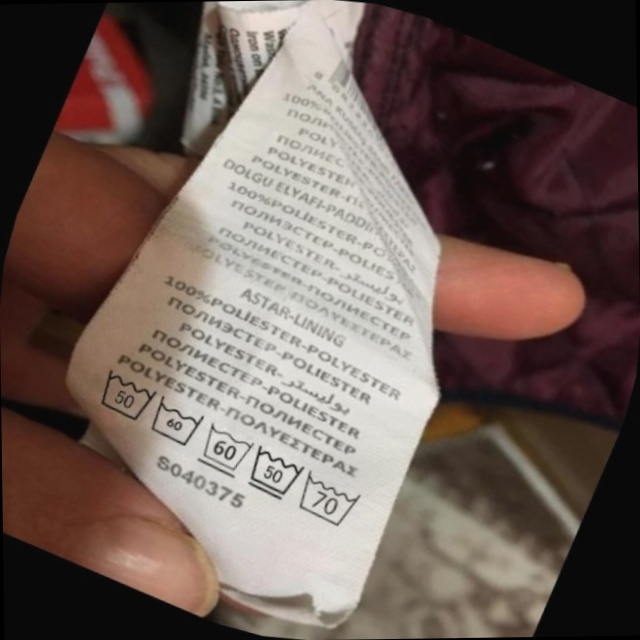50C: (83, 356, 169, 434), (236, 437, 314, 511)
60C: (190, 414, 265, 486), (139, 388, 215, 458)
70C: (288, 464, 373, 538)
